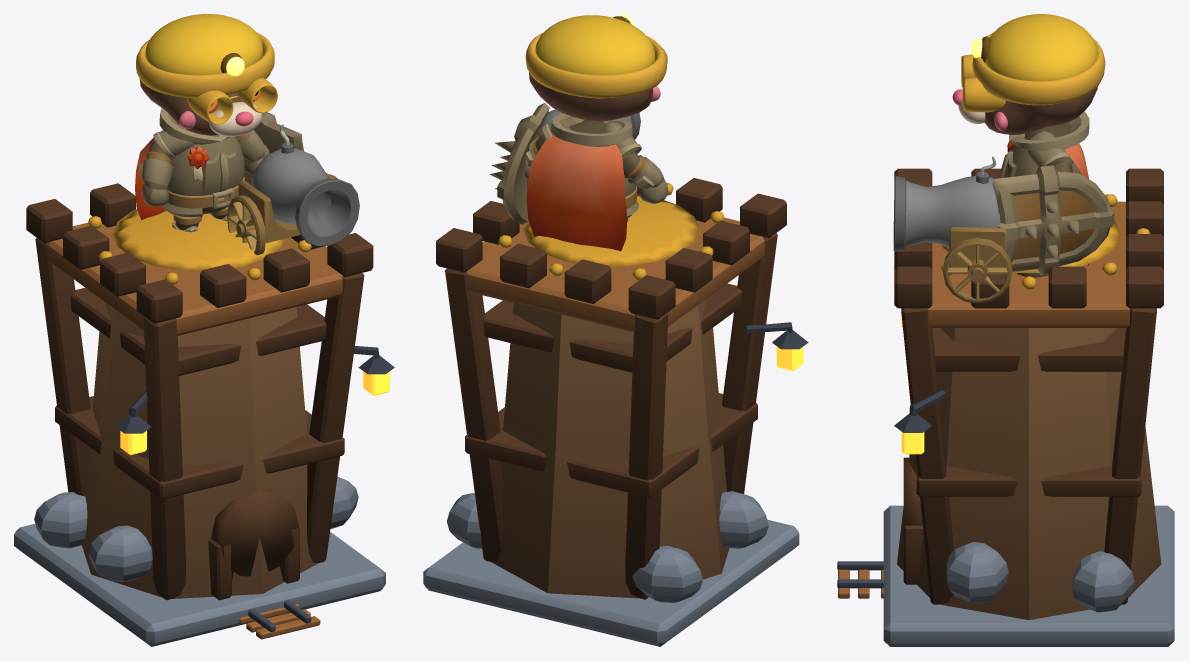
Rendered from tower_tortoise_t1.glb.
3 renders of one model, left to right at view 1: azimuth 30°, elevation 25°; view 2: azimuth 150°, elevation 25°; view 3: azimuth 270°, elevation 25°, orthographic. The views are drawn at different scales.
Visible parts, largest first — view 1: CustomTowerBase_tortoise_t1, Cannon, MoleCogHub, Knight_Body, NativeHat_MlDome, NativeHat_MlBrim, Knight_ArmRight, Cannon_Wheels, MlHead, Spike_Shield, MlSpecFrame_-1, MlMuzzle (+3 smaller); view 2: CustomTowerBase_tortoise_t1, Knight_Cape, NativeHat_MlDome, MoleCogHub, NativeHat_MlBrim, Spike_Shield, MlHead, Knight_Body, Knight_ArmRight, Knight_ArmLeft; view 3: CustomTowerBase_tortoise_t1, Spike_Shield, Cannon, NativeHat_MlDome, NativeHat_MlBrim, Knight_Body, Cannon_Wheels, MlHead, MlSpecFrame_1, Knight_ArmLeft, MoleCogHub.
Part boxes in pixels (box(x1,y1,x2,y2)): CustomTowerBase_tortoise_t1: box(14, 183, 394, 646); Cannon: box(238, 124, 359, 246); MoleCogHub: box(112, 209, 285, 270); Knight_Body: box(159, 108, 244, 217); NativeHat_MlDome: box(145, 14, 263, 75); NativeHat_MlBrim: box(136, 32, 274, 97); Knight_ArmRight: box(139, 123, 197, 206); Cannon_Wheels: box(227, 174, 337, 255); MlHead: box(139, 78, 254, 135); Spike_Shield: box(244, 112, 303, 185); MlSpecFrame_-1: box(187, 90, 233, 124); MlMuzzle: box(209, 102, 262, 136); CustomTowerBase_tortoise_t1: box(423, 178, 808, 646); Knight_Cape: box(526, 125, 627, 251); NativeHat_MlDome: box(535, 15, 655, 75); MoleCogHub: box(523, 194, 699, 266); NativeHat_MlBrim: box(525, 33, 667, 98); Spike_Shield: box(489, 103, 549, 224); MlHead: box(529, 72, 653, 121); Knight_Body: box(550, 113, 638, 217); Knight_ArmRight: box(604, 122, 668, 203); Knight_ArmLeft: box(525, 116, 584, 180); CustomTowerBase_tortoise_t1: box(837, 168, 1174, 646); Spike_Shield: box(992, 165, 1114, 275); Cannon: box(893, 156, 1006, 274); NativeHat_MlDome: box(985, 14, 1097, 81); NativeHat_MlBrim: box(972, 32, 1105, 105); Knight_Body: box(1000, 111, 1089, 178); Cannon_Wheels: box(942, 237, 1012, 303); MlHead: box(984, 86, 1097, 134); MlSpecFrame_1: box(962, 77, 1005, 112); Knight_ArmLeft: box(1027, 130, 1073, 172); MoleCogHub: box(941, 221, 1120, 272).
Bounding box in the file's own units: 0.9931 × 1.9 × 1.02.
Materials: 21 (3 with a texture image).
